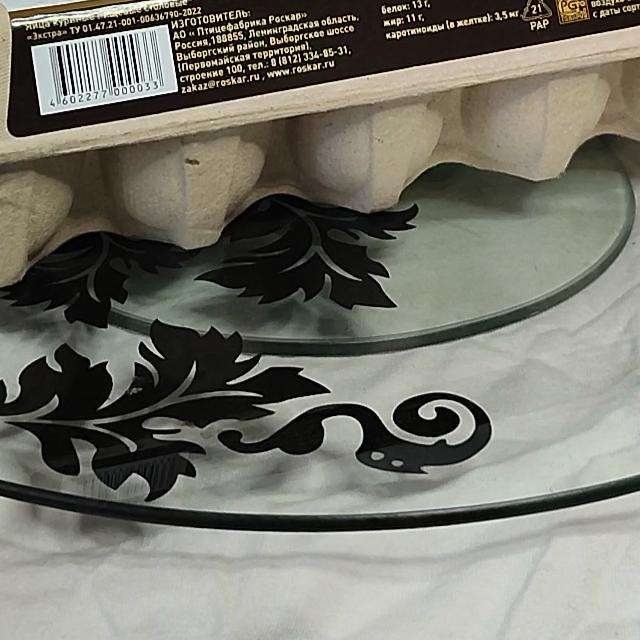egg: (0, 0, 640, 317)
